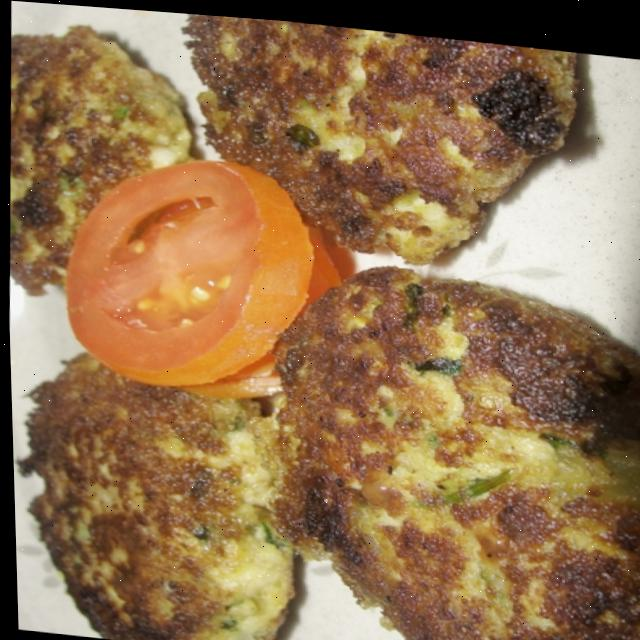鸡肉料理 含炸鸡: (13, 1, 640, 640)
